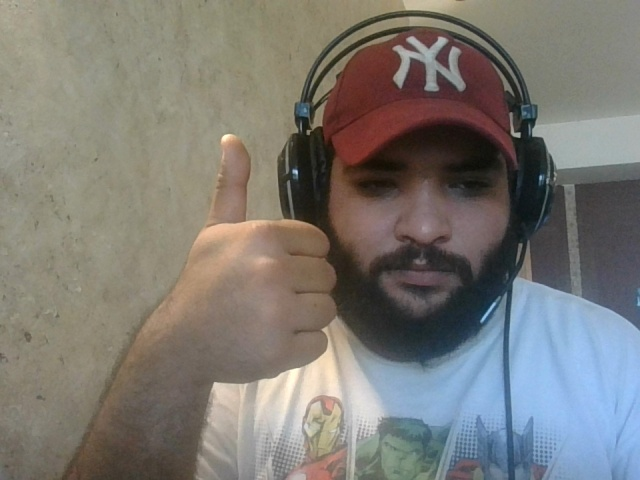yes: (168, 131, 342, 399)
